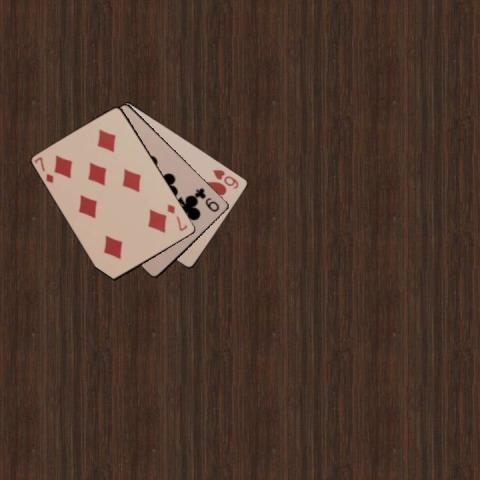6h: (210, 166, 241, 191)
7d: (164, 200, 189, 232), (31, 154, 56, 185)
9c: (193, 185, 221, 213)
